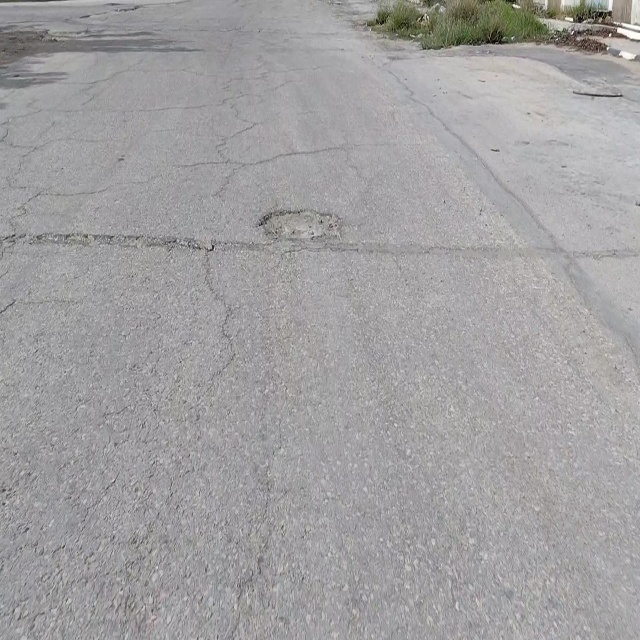pothole: (256, 205, 340, 241)
